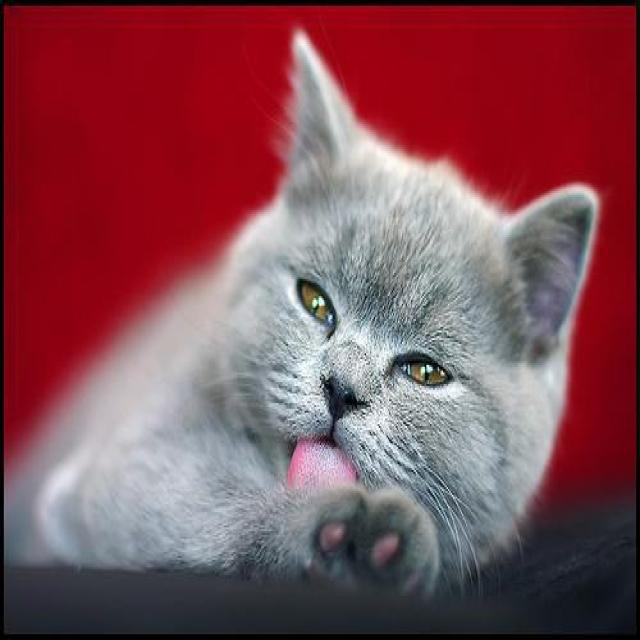cat: (4, 30, 599, 594)
